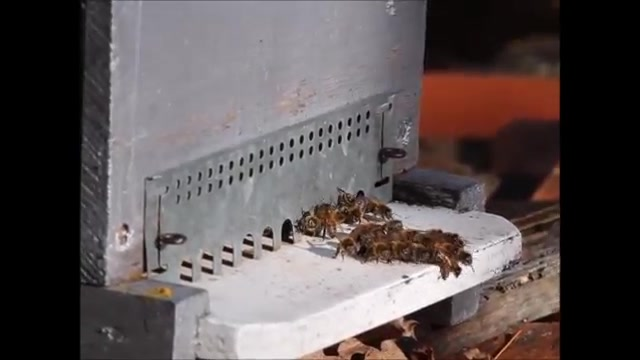bee: (396, 229, 437, 263), (438, 232, 476, 268), (359, 226, 395, 263), (327, 193, 366, 226), (301, 212, 328, 236), (334, 238, 360, 260), (370, 201, 397, 221)
